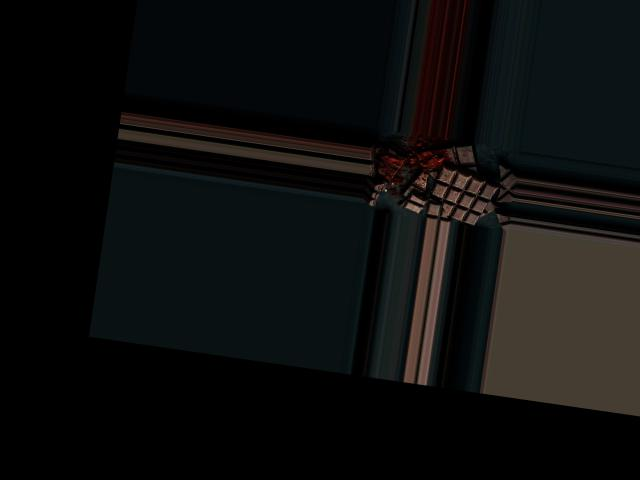chocolate: (428, 163, 502, 228)
